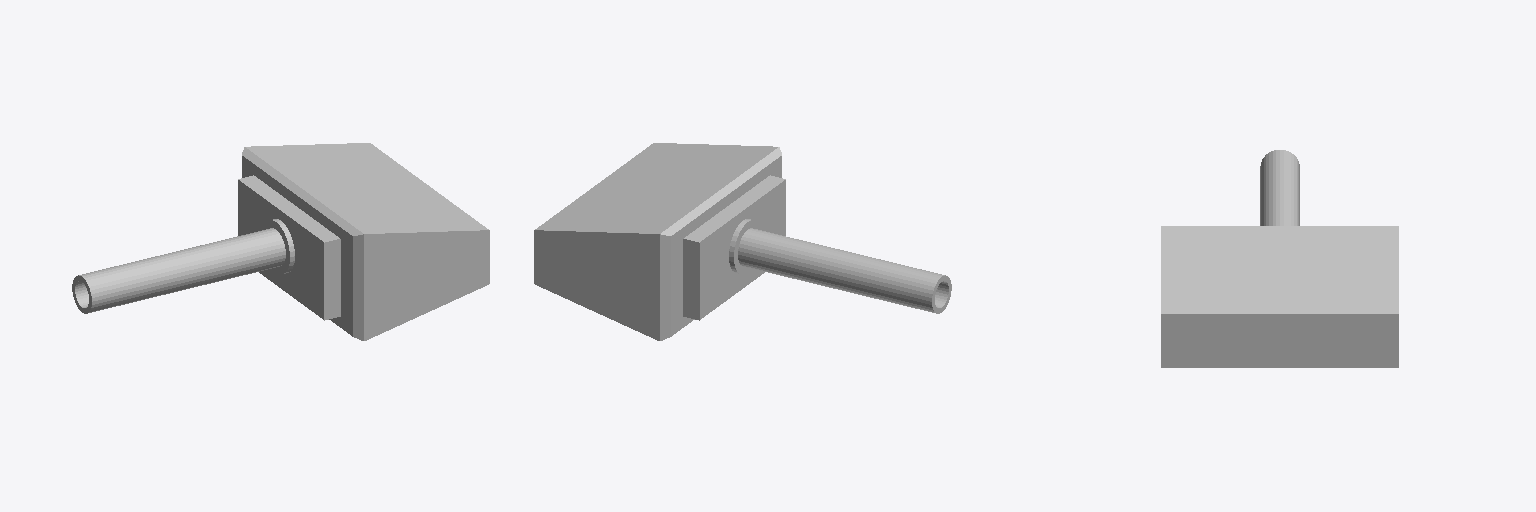
File: tempTurretHead.obj
The picture shows the model from 3 angles: view 1: azimuth 30°, elevation 25°; view 2: azimuth 150°, elevation 25°; view 3: azimuth 270°, elevation 25°; orthographic projection.
Visible parts, largest first — view 1: Cube_Cube.001; view 2: Cube_Cube.001; view 3: Cube_Cube.001.
Boxes of the visible parts, x1,y1,x2,y2 form: Cube_Cube.001: [72, 143, 489, 340]; Cube_Cube.001: [534, 143, 951, 340]; Cube_Cube.001: [1161, 150, 1398, 367].
Bounding box in the file's own units: 1.76 × 0.5203 × 1.05.